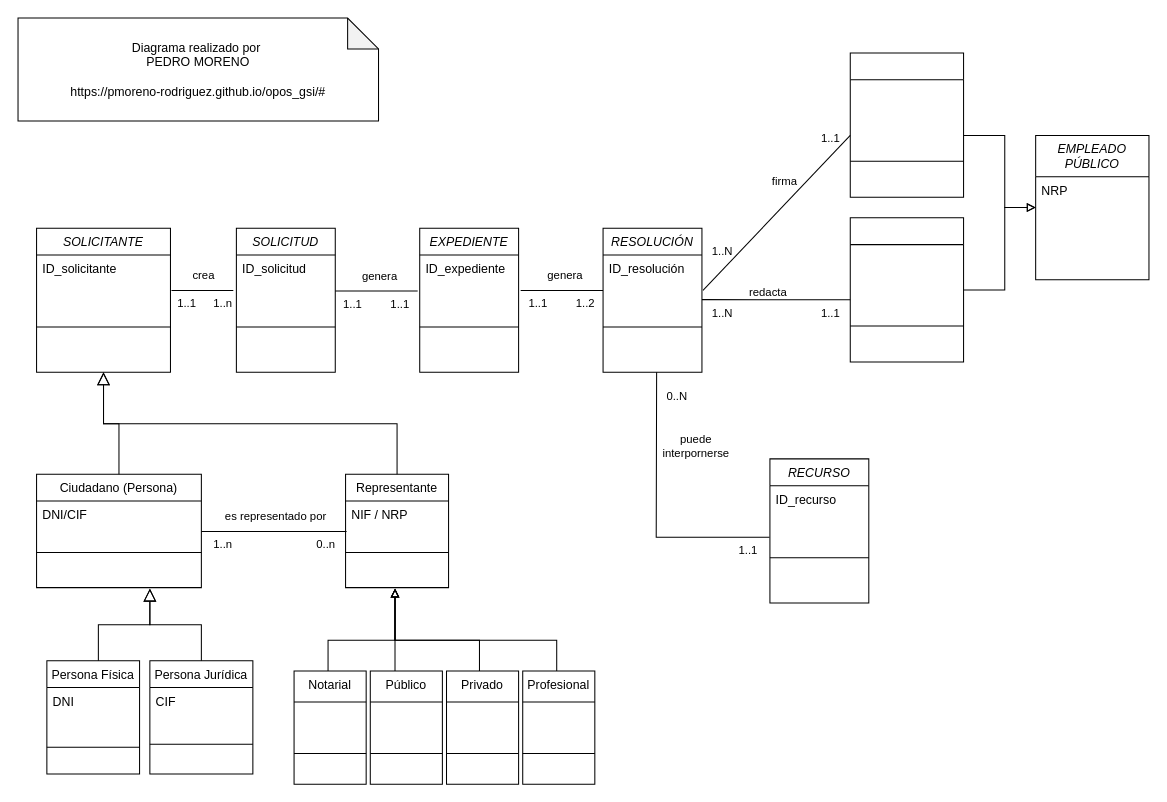
Some shapes in this 1167 by 802 pixel diagram are drawn without their labels. Each missing label, with the centre of its shape:
ADMINISTRATIVO: point 906,289
DIRECTIVO: point 906,124
